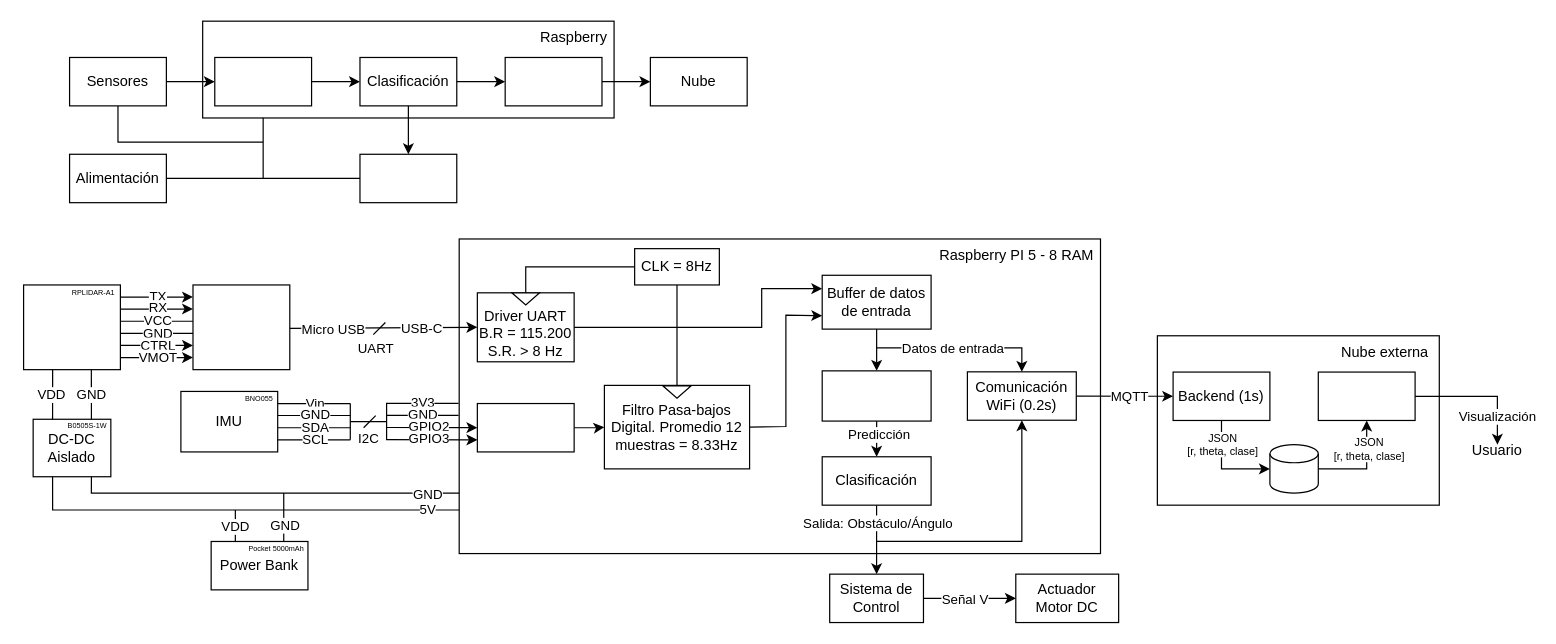
Some shapes in this 1556 by 644 pixel diagram are drawn without their labels. The shapes that lost their labels are listed below. From the top down, each one's box as (x1, y1, x2, y2) in pixels, then its label:
(214, 56, 312, 106): Procesado
(504, 56, 602, 106): Comunicación
(359, 153, 457, 203): Actuadores
(22, 284, 120, 370): LIDAR 2D
(192, 284, 290, 370): Adaptador LIDAR y protecciones
(821, 370, 931, 421): Modelo de ML CNN
(1317, 371, 1415, 420): Frontend (1s)
(476, 402, 574, 452): Driver I2C SR = 100Hz
(1269, 443, 1318, 493): BBDD
